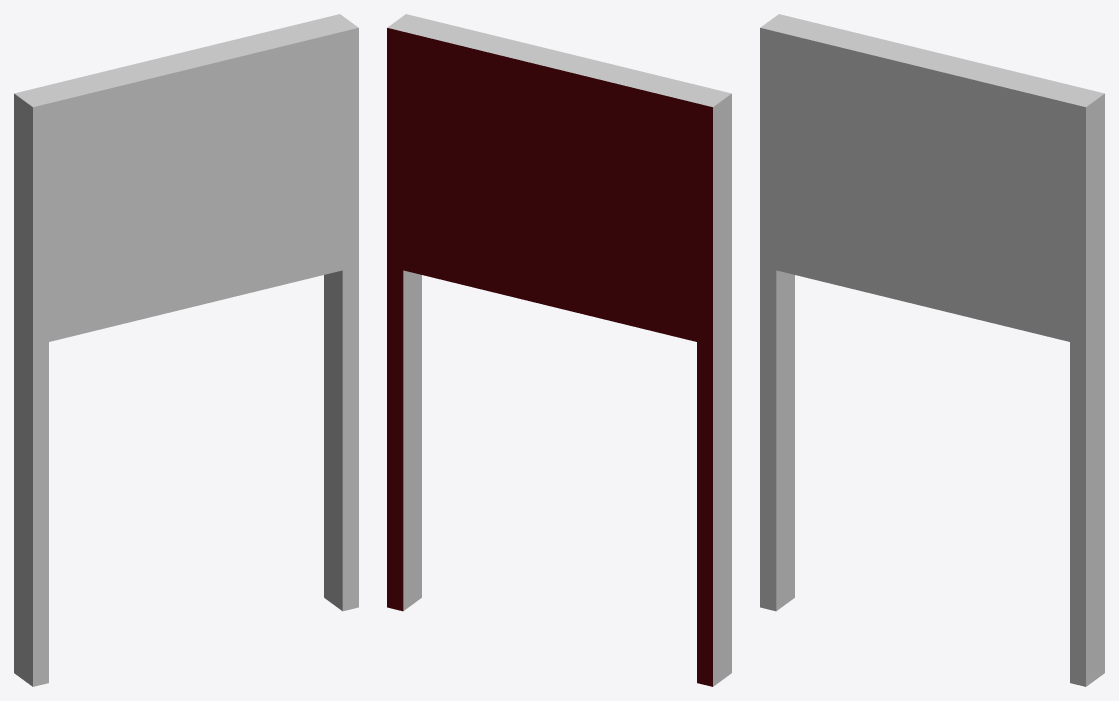
The model's file is DoppelTürRahmen.glb.
The picture shows the model from 3 angles, left to right: view 1: azimuth 30°, elevation 25°; view 2: azimuth 150°, elevation 25°; view 3: azimuth 330°, elevation 25°; orthographic projection.
Visible parts, largest first — view 1: Wand 1 * 4.001; view 2: Wand 1 * 4.001; view 3: Wand 1 * 4.001.
Part boxes in pixels (bbox=[...]): Wand 1 * 4.001: bbox=[14, 14, 358, 686]; Wand 1 * 4.001: bbox=[387, 14, 731, 686]; Wand 1 * 4.001: bbox=[760, 14, 1104, 686].
Bounding box in the file's own units: 2 × 3.4 × 0.2.
